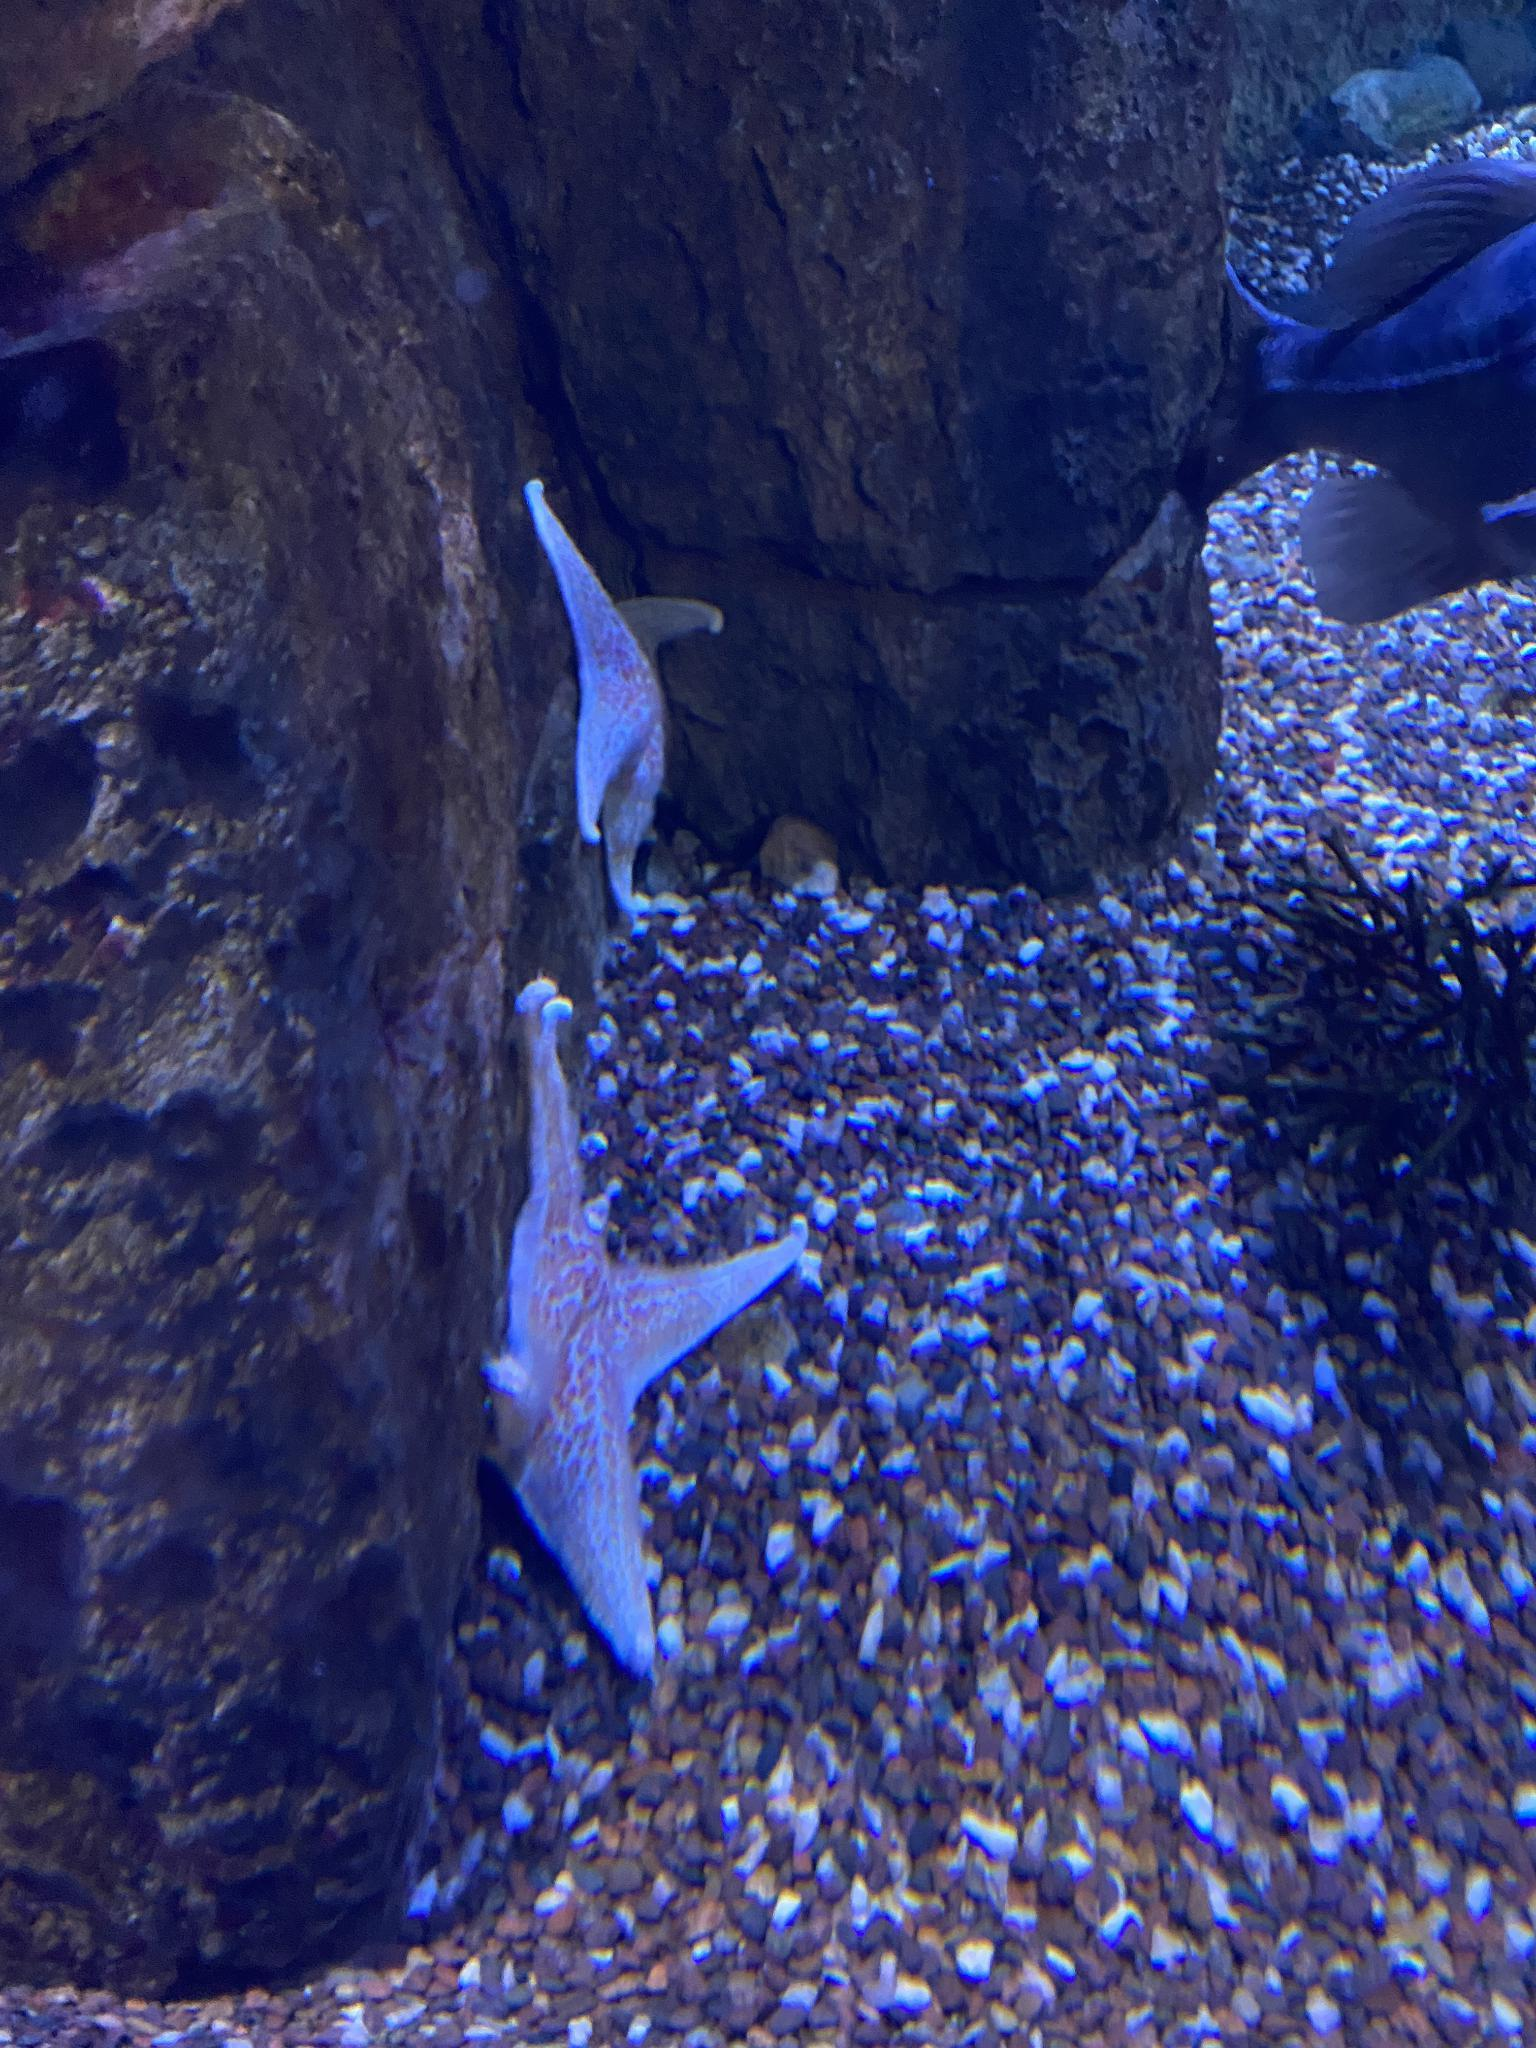fish: (1212, 144, 1536, 552)
starfish: (473, 992, 770, 1663), (528, 471, 721, 929)
